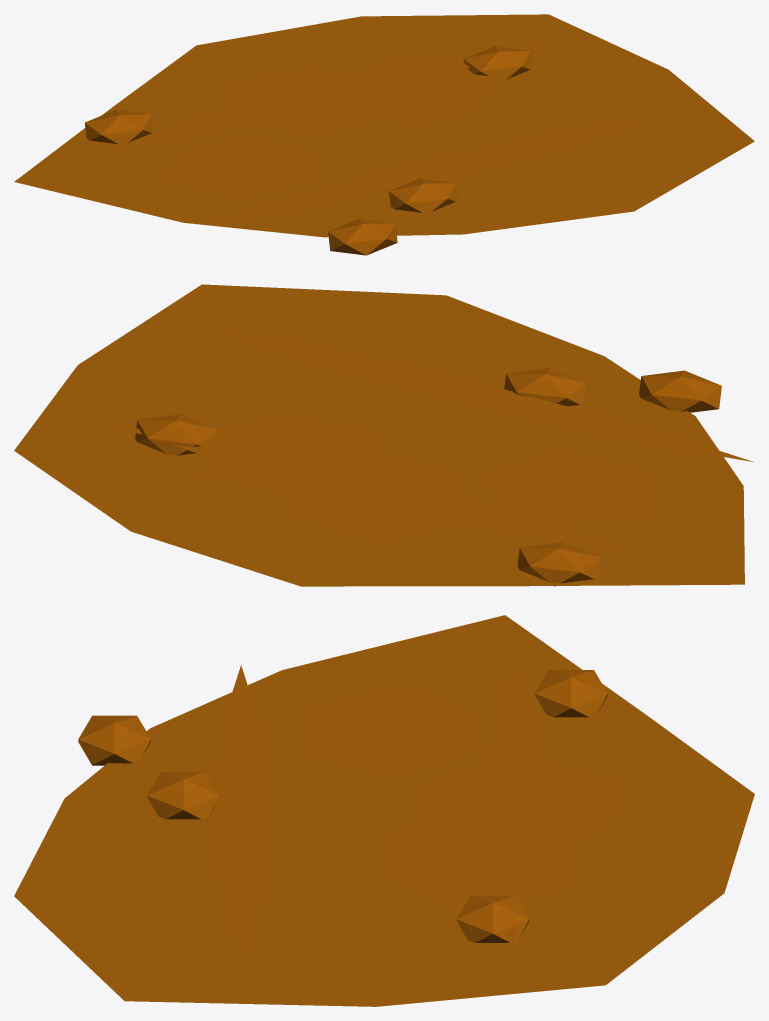
The model's file is SM_Nature_Boue_B.fbx.
The picture shows the model from 3 angles, top to bottom: view 1: azimuth 30°, elevation 25°; view 2: azimuth 150°, elevation 25°; view 3: azimuth 270°, elevation 25°; orthographic projection. The views are drawn at different scales.
Visible parts, largest first — view 1: SM_Nature_Boue_B_LOD0; view 2: SM_Nature_Boue_B_LOD0; view 3: SM_Nature_Boue_B_LOD0.
Part boxes in pixels (<box>): SM_Nature_Boue_B_LOD0: <box>14,14,754,255</box>; SM_Nature_Boue_B_LOD0: <box>14,284,752,586</box>; SM_Nature_Boue_B_LOD0: <box>14,615,754,1006</box>.
Size of what is drawn, in the model's own units: 1.08 by 0.045 by 0.8645.
